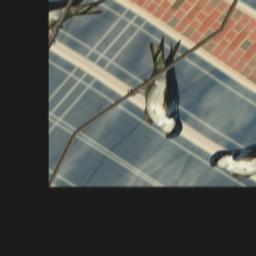Swallow: (101, 28, 234, 144)
